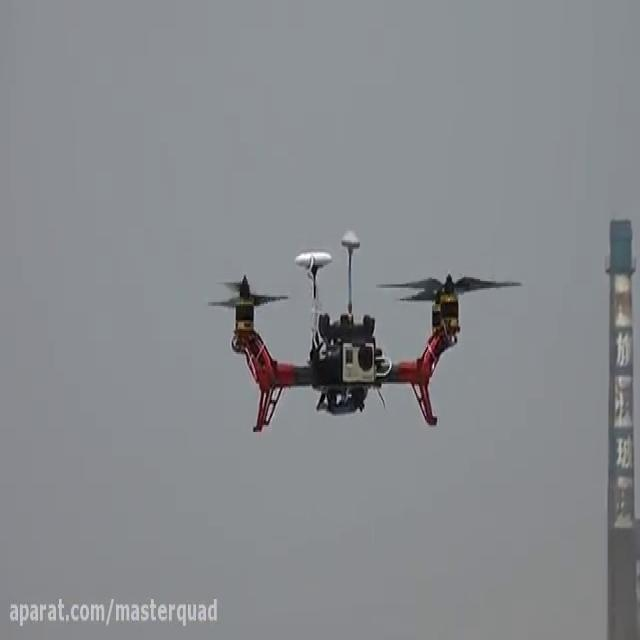drone: (203, 226, 526, 434)
